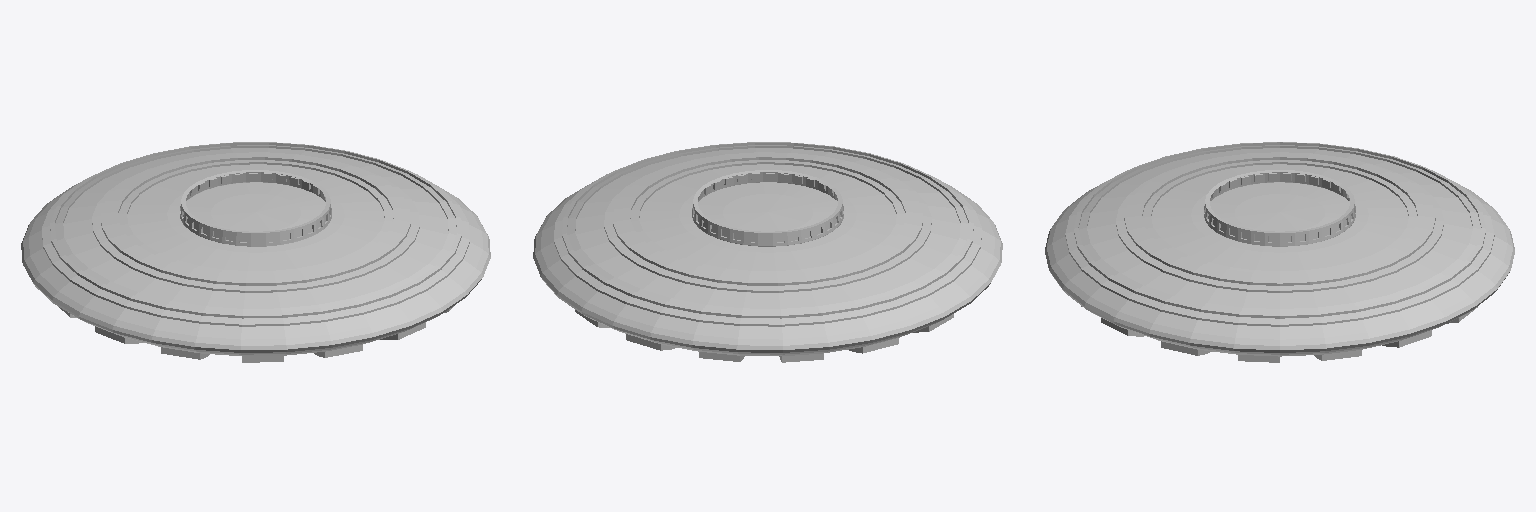
The model's file is BaseUFO.obj.
3 views of the same model, side by side, from view 1: azimuth 30°, elevation 25°; view 2: azimuth 150°, elevation 25°; view 3: azimuth 270°, elevation 25° (orthographic).
Parts seen in each view (by area): view 1: off, 1; view 2: off, 1; view 3: off, 1.
Boxes of the visible parts, <box> form: off: <box>21,142,490,362</box>; 1: <box>180,173,331,242</box>; off: <box>533,142,1002,362</box>; 1: <box>692,173,843,242</box>; off: <box>1045,142,1514,362</box>; 1: <box>1204,173,1355,242</box>.
Bounding box in the file's own units: 6.56 × 1.67 × 6.56.